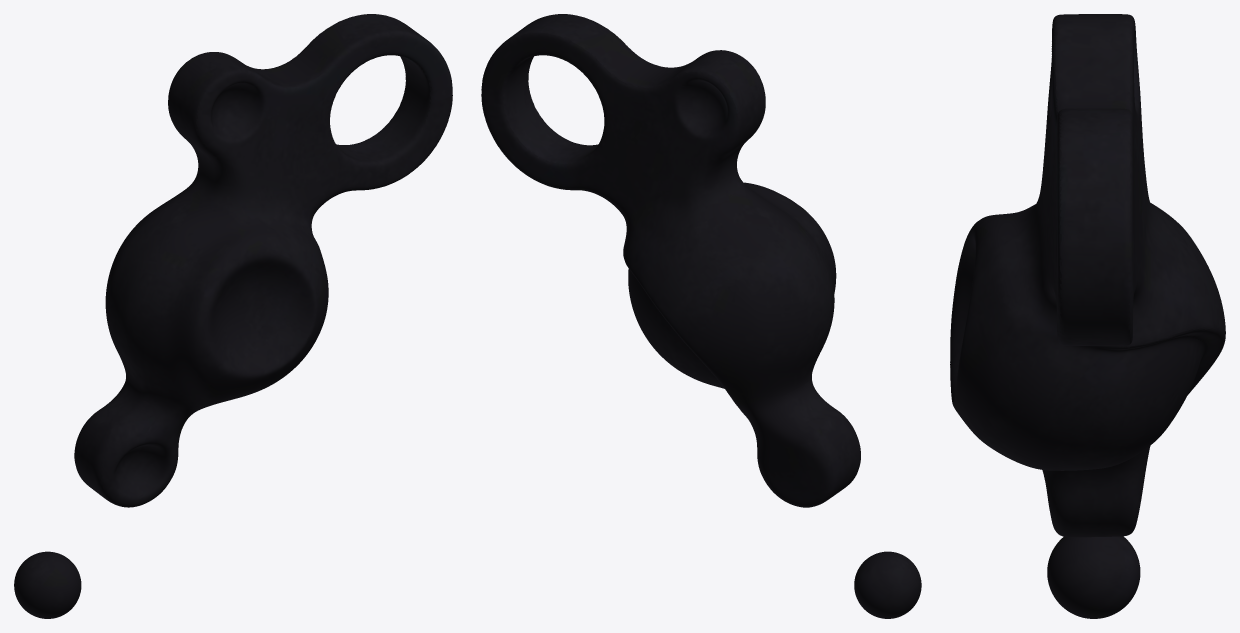
Rendered from 006_PurpleAR.glb.
The picture shows the model from 3 angles, left to right: view 1: azimuth 30°, elevation 25°; view 2: azimuth 150°, elevation 25°; view 3: azimuth 270°, elevation 25°; orthographic projection. The views are drawn at different scales.
Parts seen in each view (by area): view 1: Group15894, Group15894.001; view 2: Group15894, Group15894.001; view 3: Group15894, Group15894.001.
Boxes of the visible parts, left/top/right/bottom form: Group15894: left=14, top=14, right=452, bottom=618; Group15894.001: left=74, top=16, right=452, bottom=507; Group15894: left=481, top=14, right=921, bottom=618; Group15894.001: left=482, top=23, right=859, bottom=507; Group15894: left=950, top=14, right=1225, bottom=618; Group15894.001: left=950, top=14, right=1210, bottom=536.
Size of the model in its own units: 53.08 by 61.52 by 21.62.
1 material, 1 textured.
